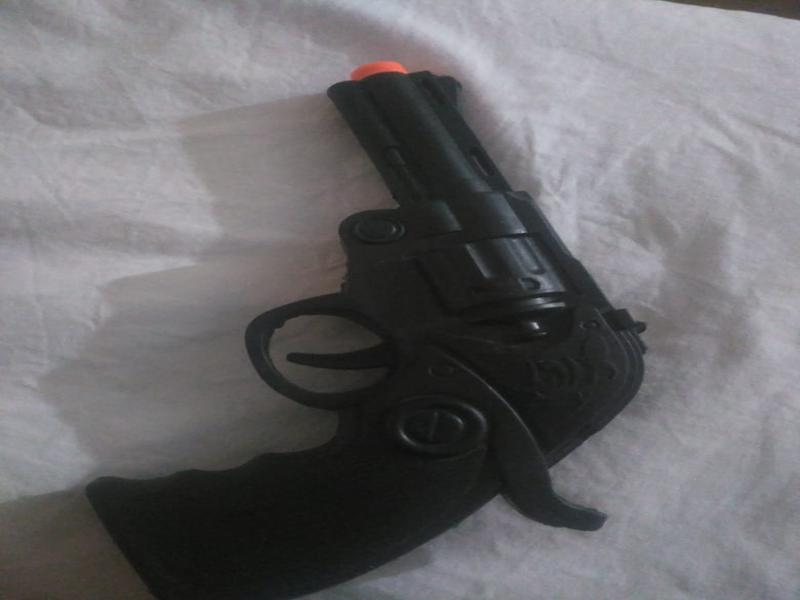gun: (82, 57, 665, 590)
